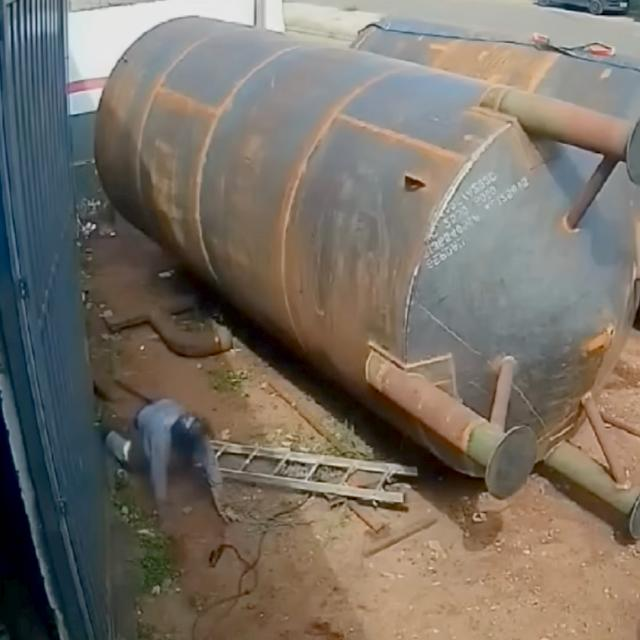fallen: (106, 394, 226, 519)
